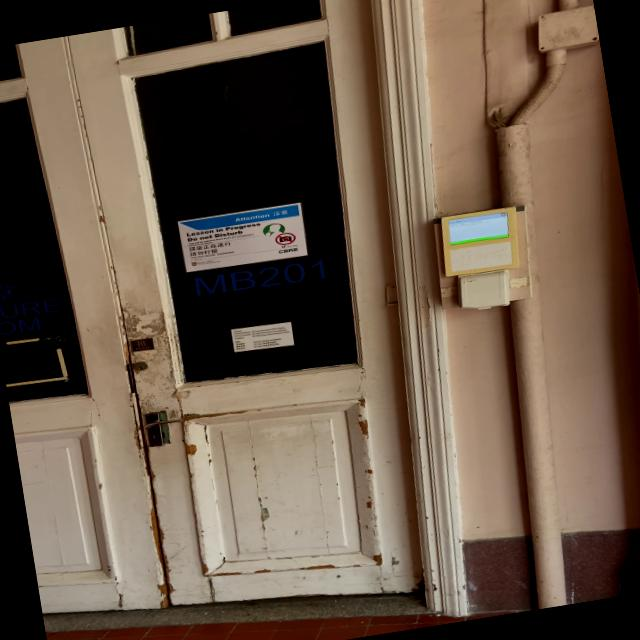room201Window: (187, 252, 333, 302)
